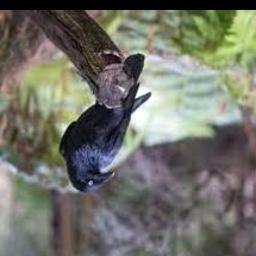Crow: (58, 83, 151, 193)
